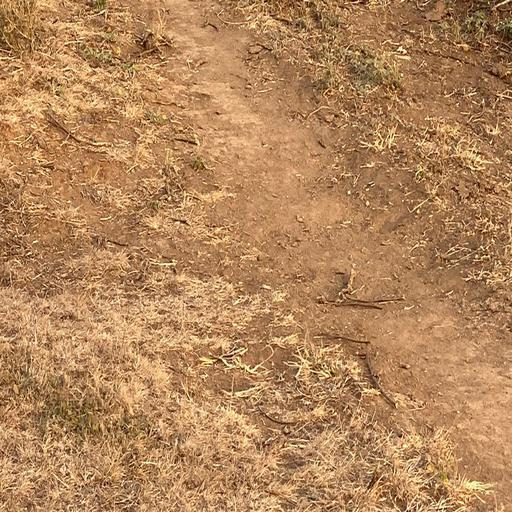vehicle_track: (98, 0, 512, 512)
